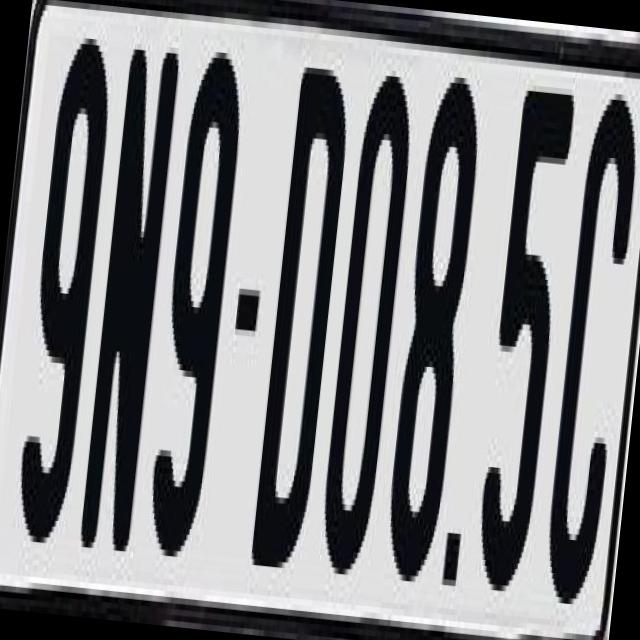0: (316, 56, 420, 582)
5: (474, 73, 582, 582)
8: (378, 74, 491, 618)
9: (142, 38, 255, 582), (7, 18, 114, 561)
C: (540, 80, 640, 594)
D: (246, 49, 354, 587)
N: (72, 31, 182, 570)
